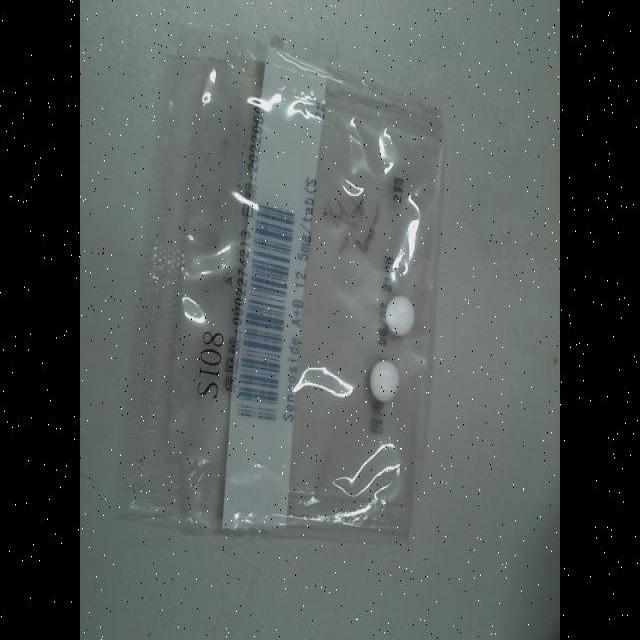pill: (371, 359, 402, 401), (386, 297, 415, 340)
